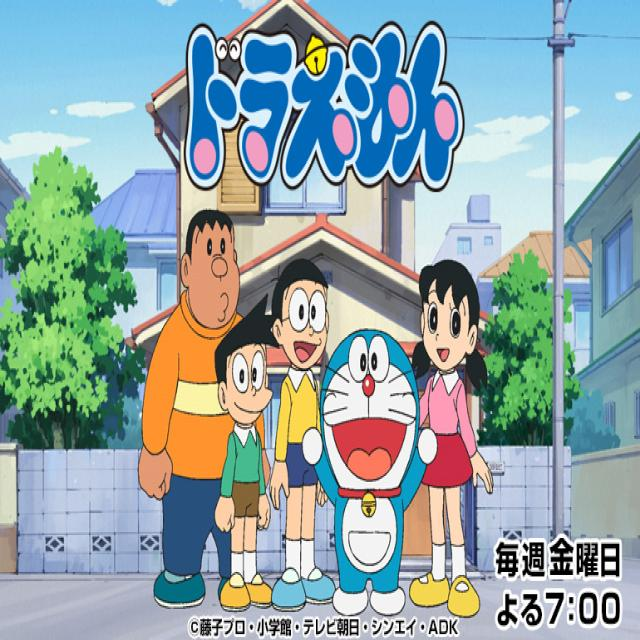doraemon: (305, 312, 437, 542)
jaian: (172, 196, 244, 358)
nobita: (268, 247, 339, 402)
shizuka: (401, 253, 489, 415)
suneo: (206, 284, 284, 458)
